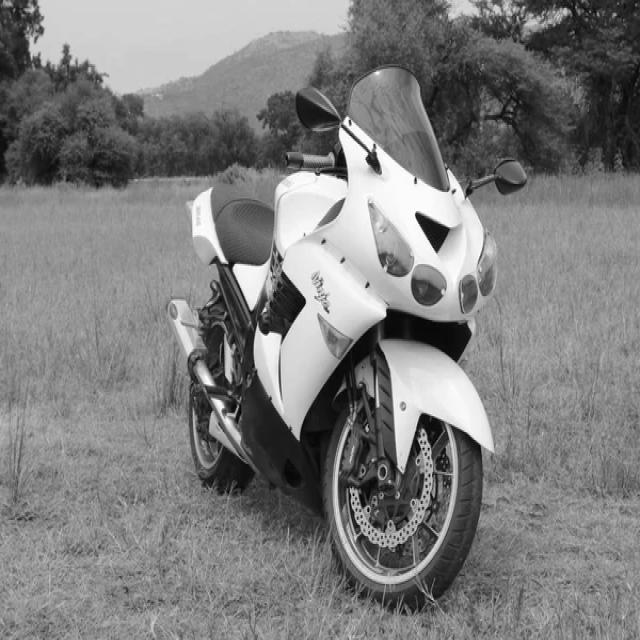Motorcycle: (166, 66, 527, 608)
